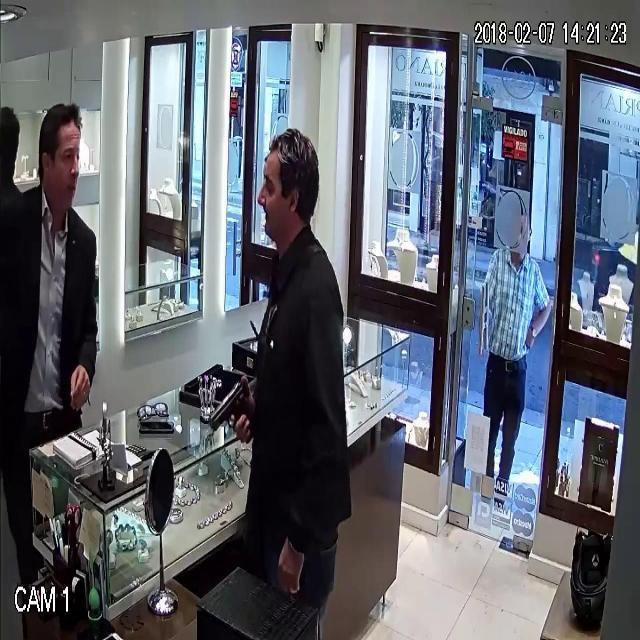weapon: (204, 360, 256, 471)
